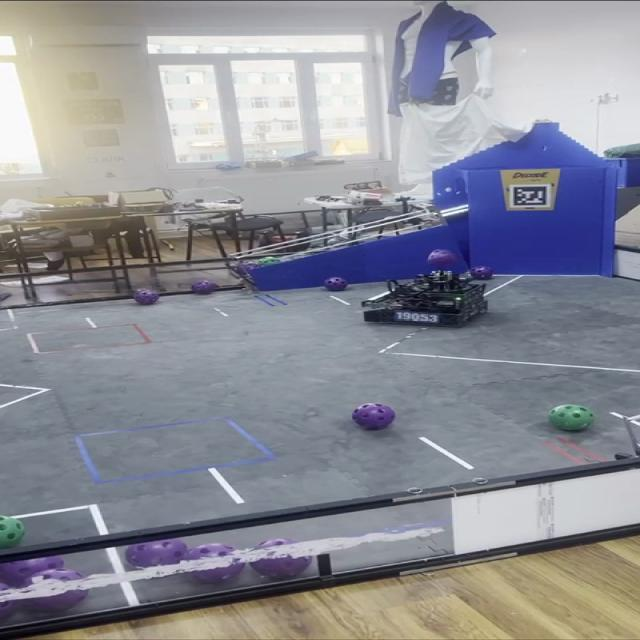artifact_green: (548, 405, 594, 431), (0, 516, 25, 548), (258, 257, 281, 266)
artifact_purple: (0, 557, 63, 586), (126, 539, 187, 568), (250, 555, 311, 578), (23, 590, 87, 611), (190, 560, 245, 583), (352, 404, 395, 430), (427, 250, 457, 269), (191, 281, 218, 295), (134, 290, 159, 305), (324, 277, 347, 292), (0, 601, 17, 621), (236, 261, 258, 275), (471, 267, 494, 280)
